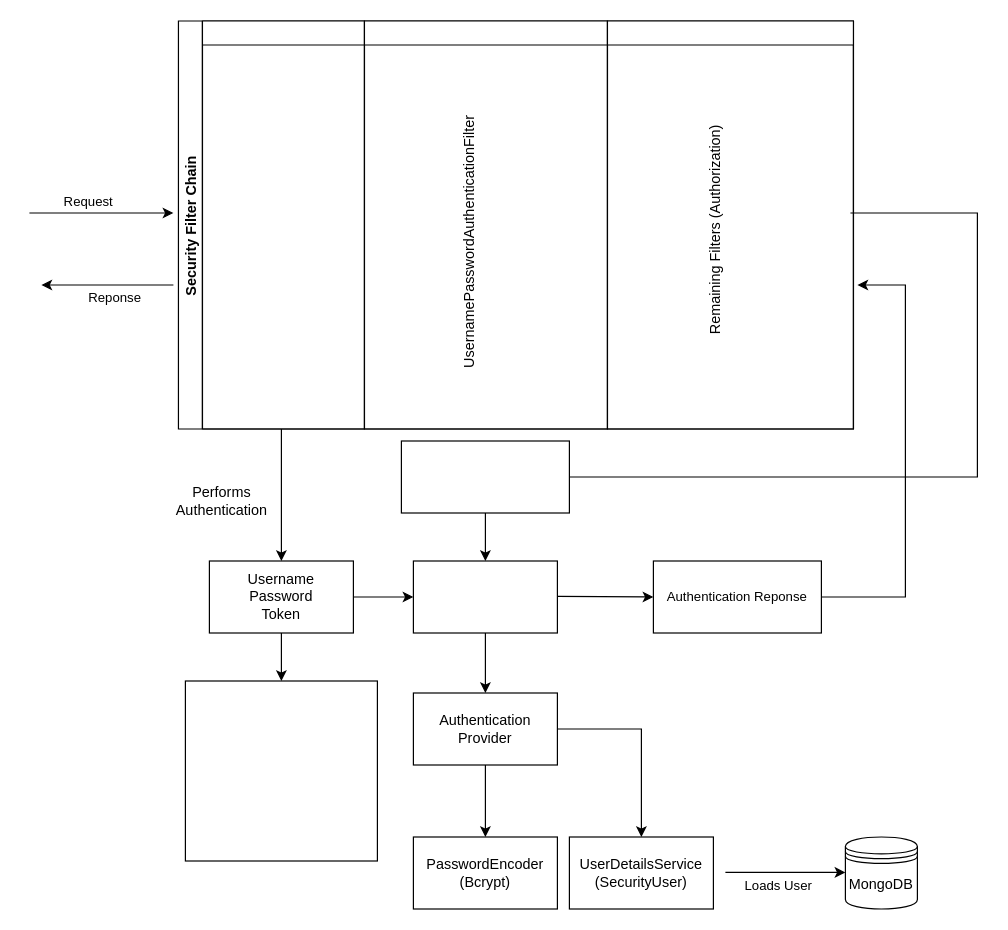
This 1008x930 diagram has some shape labels left out. Each missing label, with the box of its shape:
Authentication Manager: (412, 560, 557, 633)
Authentication Request: (400, 440, 569, 513)
JwtAuthenticationFilter: (201, 20, 364, 429)
Security ContextHolder (Authentication Details): (184, 680, 377, 861)
